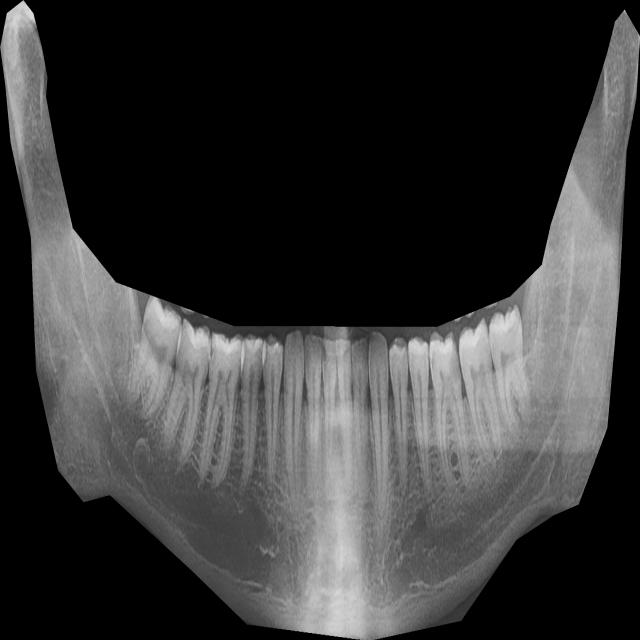mandibula: (0, 0, 640, 640)
